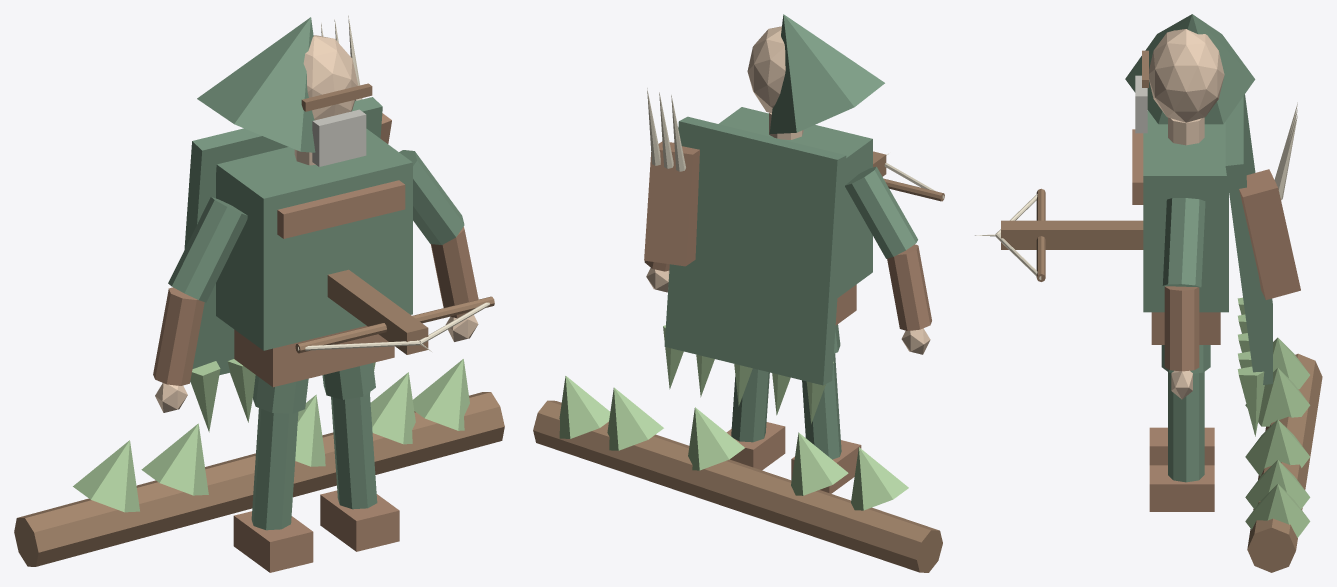
The model's file is elder_kaelen.glb.
3 renders of one model, left to right at view 1: azimuth 30°, elevation 25°; view 2: azimuth 150°, elevation 25°; view 3: azimuth 270°, elevation 25°, orthographic. The views are drawn at different scales.
Visible parts, largest first — view 1: kaelen_torso, emerald_canopy_safe_branch, kaelen_deep_hood_leaf_cowl, kaelen_leaf_cloak_back, kaelen_left_lower_leg, kaelen_pelvis, kaelen_right_lower_leg, kaelen_left_upper_arm, kaelen_chest_plate, kaelen_heavy_crossbow_stock, kaelen_left_forearm, kaelen_left_boot (+19 smaller); view 2: kaelen_leaf_cloak_back, emerald_canopy_safe_branch, kaelen_deep_hood_leaf_cowl, kaelen_torso, kaelen_quiver_back, kaelen_left_upper_arm, kaelen_left_forearm, kaelen_head, kaelen_left_lower_leg, kaelen_right_lower_leg, canopy_leaf_cluster_1, canopy_leaf_cluster_2 (+8 smaller); view 3: kaelen_torso, kaelen_leaf_cloak_back, kaelen_head, kaelen_quiver_back, emerald_canopy_safe_branch, kaelen_heavy_crossbow_stock, kaelen_deep_hood_leaf_cowl, kaelen_right_lower_leg, kaelen_right_upper_arm, kaelen_right_forearm, kaelen_right_boot, canopy_leaf_cluster_3 (+13 smaller).
Boxes of the visible parts, x1,y1,x2,y2 form: kaelen_torso: [216, 128, 412, 350]; emerald_canopy_safe_branch: [14, 392, 504, 566]; kaelen_deep_hood_leaf_cowl: [197, 17, 315, 152]; kaelen_leaf_cloak_back: [184, 97, 382, 382]; kaelen_left_lower_leg: [251, 408, 298, 530]; kaelen_pelvis: [234, 325, 394, 387]; kaelen_right_lower_leg: [331, 392, 377, 509]; kaelen_left_upper_arm: [168, 197, 247, 302]; kaelen_chest_plate: [277, 180, 405, 238]; kaelen_heavy_crossbow_stock: [327, 269, 428, 354]; kaelen_left_forearm: [153, 287, 204, 385]; kaelen_left_boot: [233, 511, 313, 572]; kaelen_leaf_cloak_back: [664, 116, 846, 385]; emerald_canopy_safe_branch: [533, 400, 942, 572]; kaelen_deep_hood_leaf_cowl: [769, 14, 884, 133]; kaelen_torso: [719, 107, 872, 297]; kaelen_quiver_back: [644, 141, 699, 266]; kaelen_left_upper_arm: [845, 166, 917, 258]; kaelen_left_forearm: [887, 244, 931, 330]; kaelen_head: [747, 26, 785, 113]; kaelen_left_lower_leg: [802, 353, 841, 459]; kaelen_right_lower_leg: [731, 368, 769, 442]; canopy_leaf_cluster_1: [851, 447, 908, 510]; canopy_leaf_cluster_2: [791, 432, 848, 495]; kaelen_torso: [1143, 110, 1228, 312]; kaelen_leaf_cloak_back: [1225, 94, 1272, 384]; kaelen_head: [1149, 29, 1224, 122]; kaelen_quiver_back: [1239, 169, 1300, 299]; emerald_canopy_safe_branch: [1247, 353, 1322, 572]; kaelen_heavy_crossbow_stock: [1001, 220, 1143, 249]; kaelen_deep_hood_leaf_cowl: [1125, 14, 1255, 124]; kaelen_right_lower_leg: [1168, 372, 1204, 482]; kaelen_right_upper_arm: [1162, 198, 1205, 287]; kaelen_right_forearm: [1164, 286, 1199, 371]; kaelen_right_boot: [1149, 465, 1214, 511]; canopy_leaf_cluster_3: [1245, 419, 1309, 476].
Bounding box in the file's own units: 2.32 × 2.62 × 1.71.
